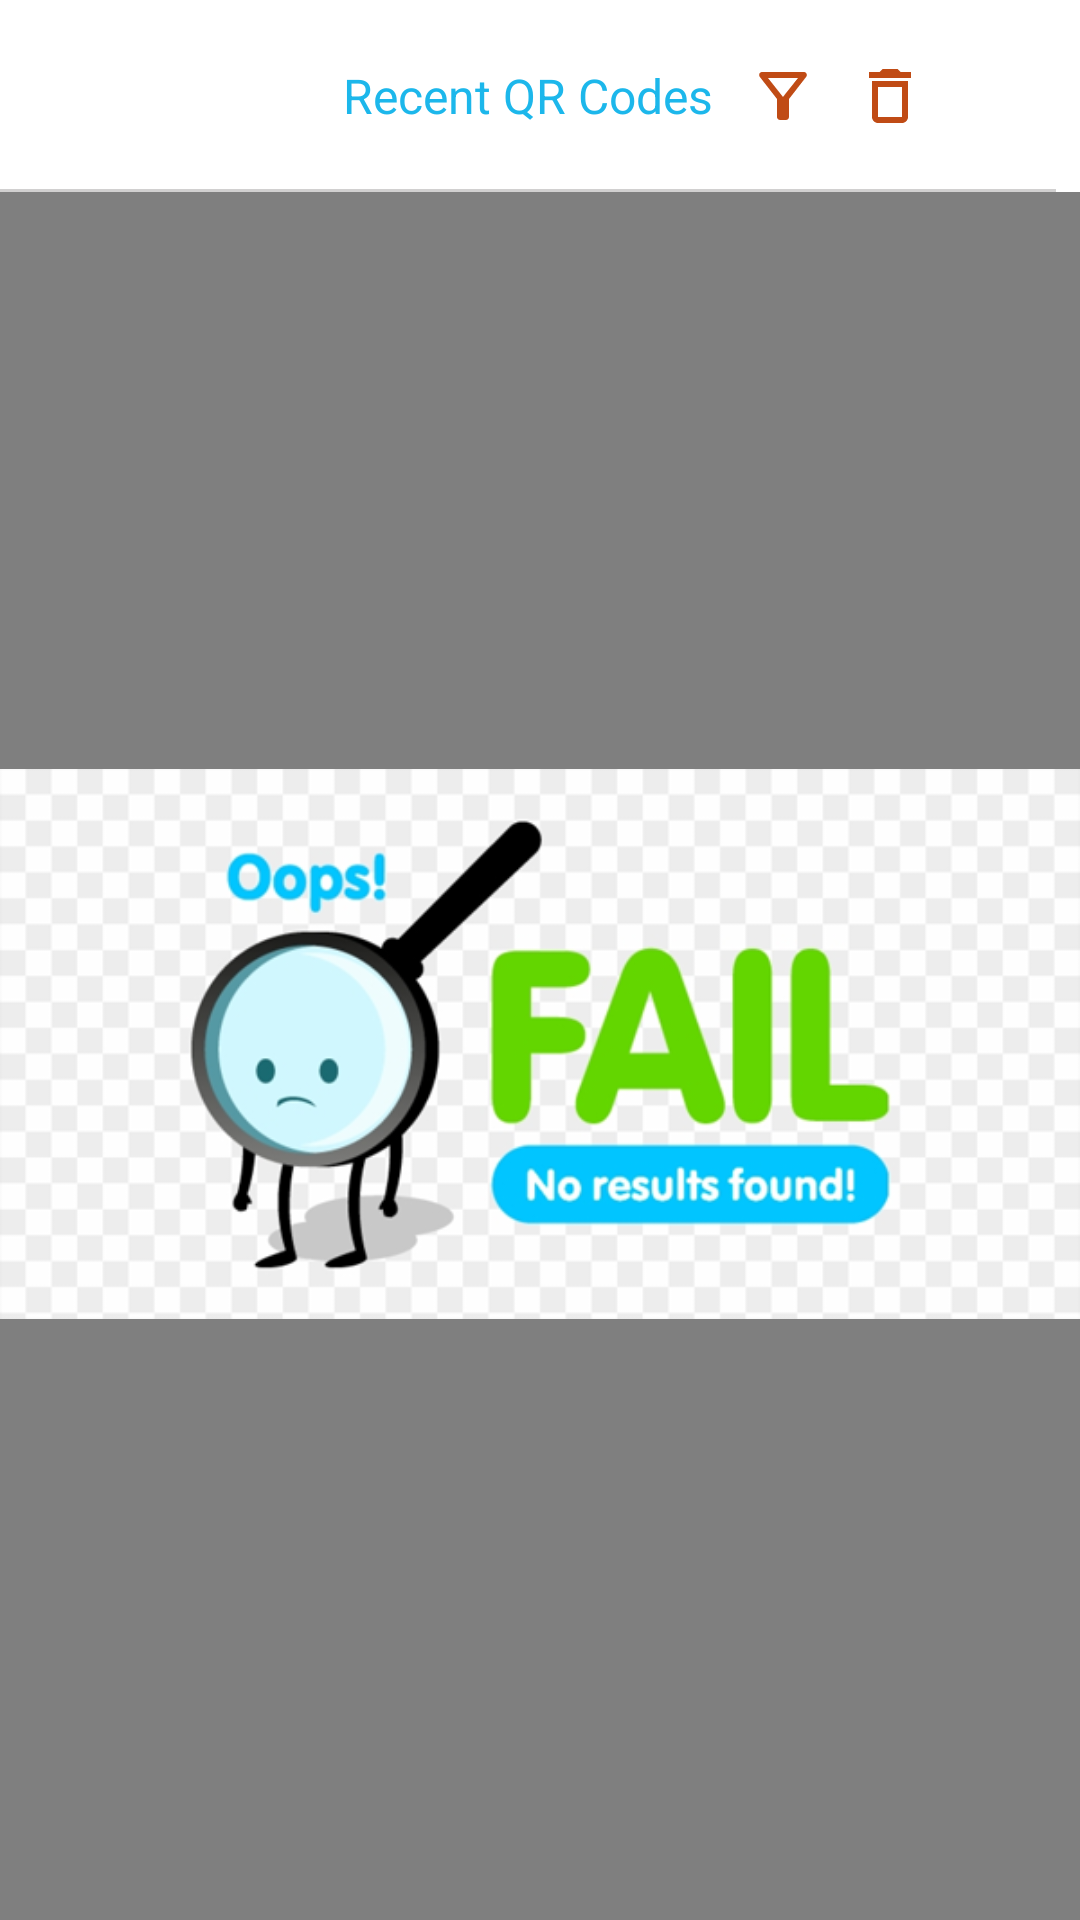

Point at icon controls on the screen. Image size 1080x1920, points as (x=x, y=y).
delete: (x=890, y=96)
filter: (x=783, y=96)
